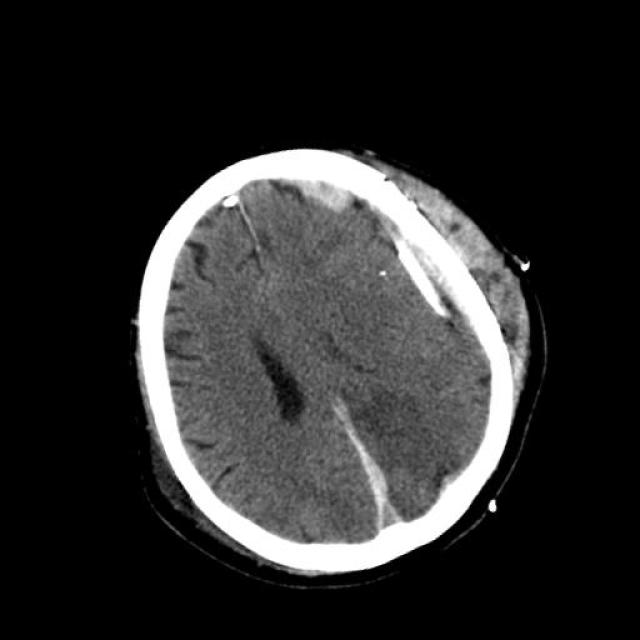Subdural: (316, 391, 422, 563), (270, 155, 374, 247)
